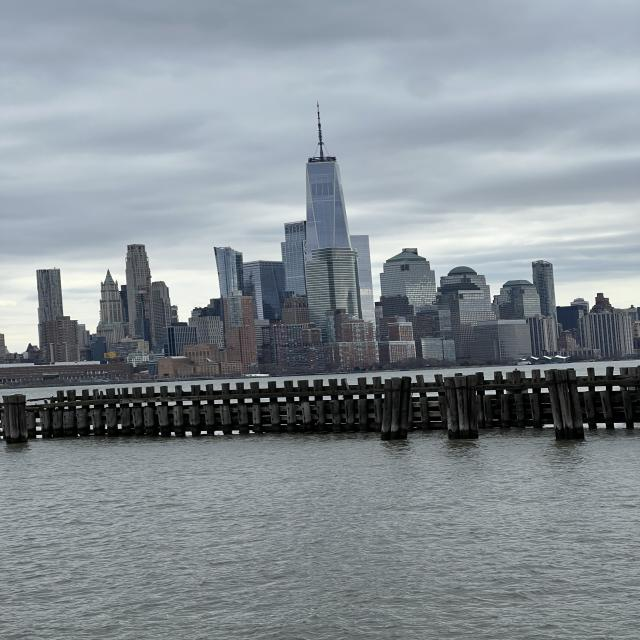WTC: (302, 102, 351, 256)
